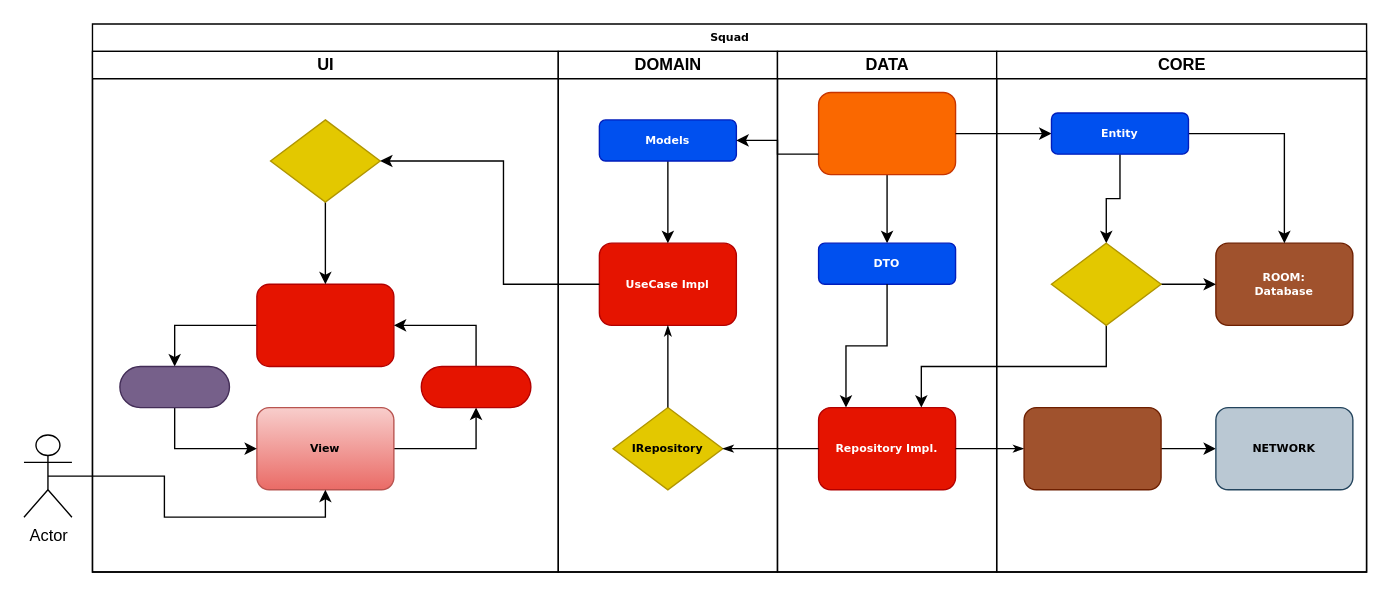
Some shapes in this 1391 by 596 pixel diagram are drawn without their labels. Here are the shapes that lost their labels. From the top down, the centre of each, then its label:
At point (886, 133): "Mappers".
At point (324, 160): "IUseCase".
At point (1105, 283): "DAO".
At point (325, 324): "VewmModel".
At point (174, 386): "State".
At point (475, 386): "Event".
At point (1092, 448): "RemoteConfig".
